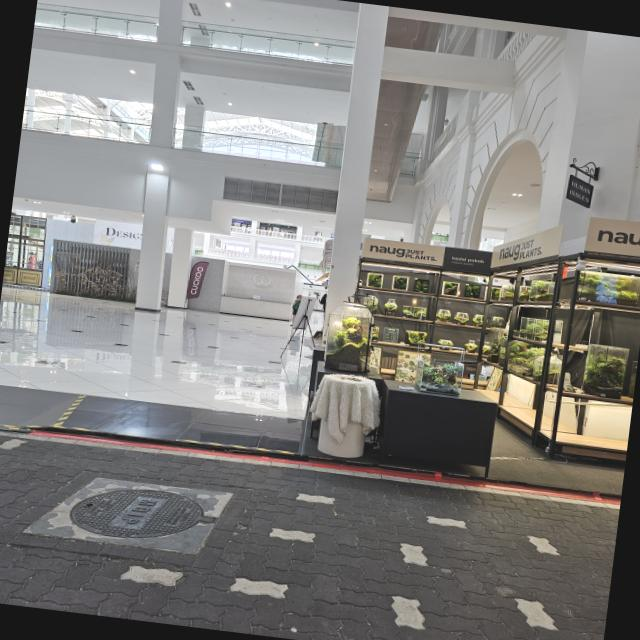footpath: (0, 292, 298, 451)
obstacle: (344, 191, 640, 422), (300, 360, 502, 481)
